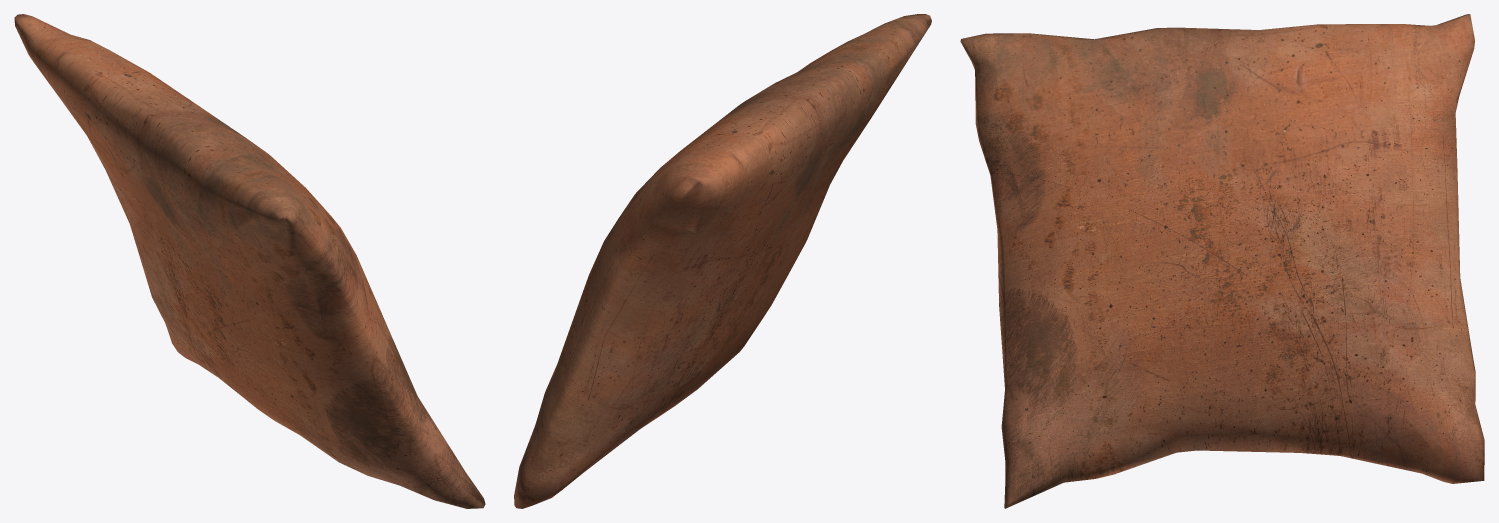
Rendered from Pillow.FBX.
The picture shows the model from 3 angles, left to right: view 1: azimuth 30°, elevation 25°; view 2: azimuth 150°, elevation 25°; view 3: azimuth 270°, elevation 25°; orthographic projection. The views are drawn at different scales.
Visible parts, largest first — view 1: pillow; view 2: pillow; view 3: pillow.
Part boxes in pixels (x1=…): pillow: x1=14, y1=14, x2=485, y2=508; pillow: x1=514, y1=14, x2=931, y2=508; pillow: x1=960, y1=14, x2=1484, y2=508.
Size of the model in its own units: 32.24 by 60.24 by 48.56.
Materials: 1 (1 with a texture image).
